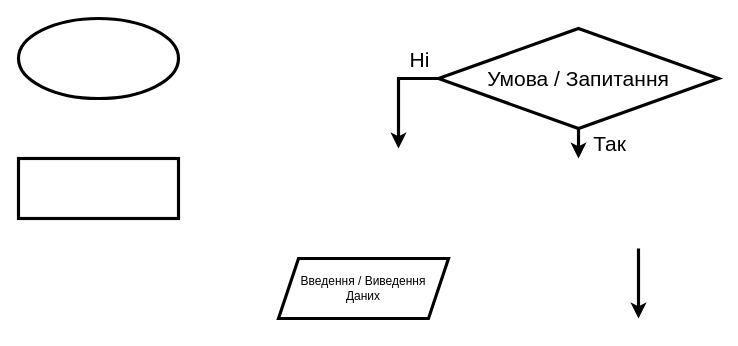
This 738x346 diagram has some shape labels left out. Here are the shapes that lost their labels. From the top down, the box of each, then its label:
(16, 16, 180, 100): Початок / Кінець
(16, 156, 180, 220): Дія / Команда
